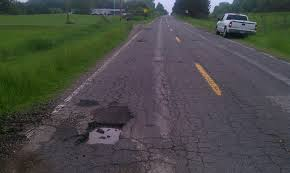pothole: (62, 107, 138, 157)
